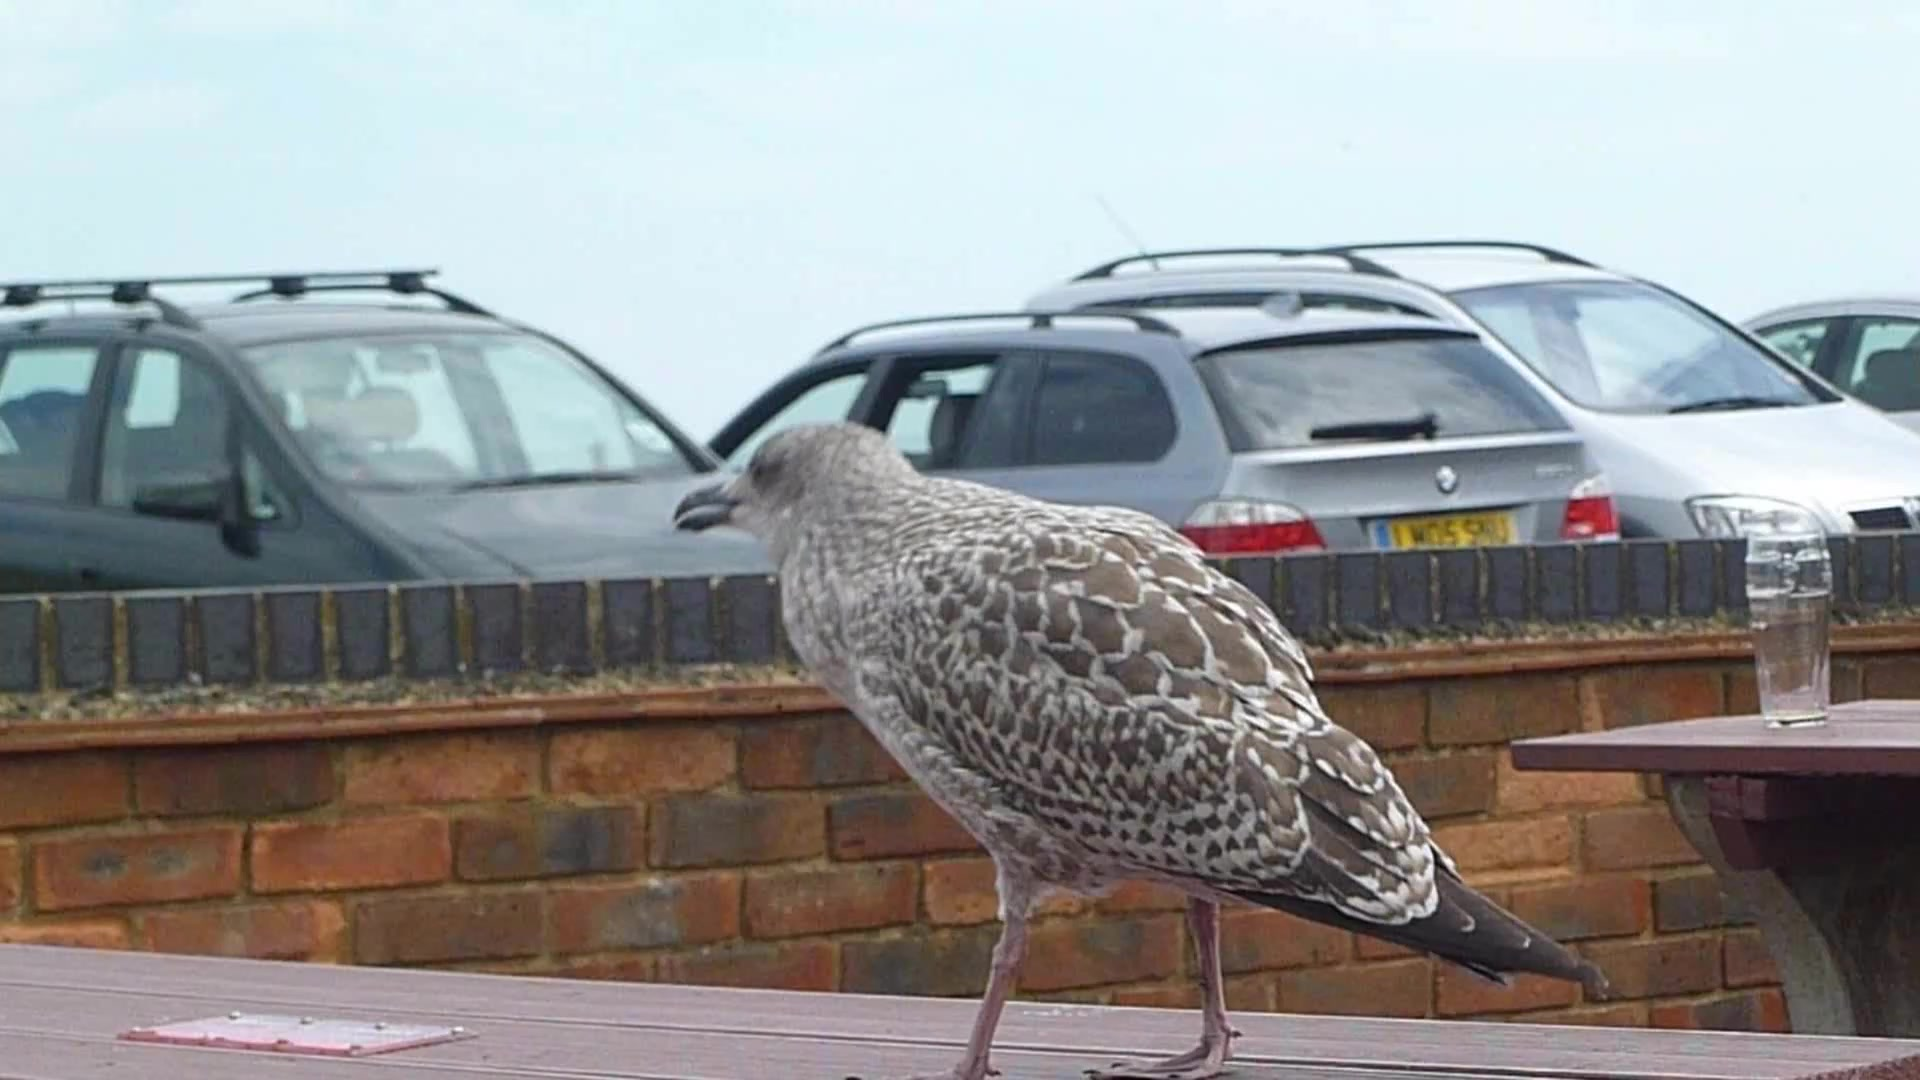bird: (673, 423, 1609, 1077)
